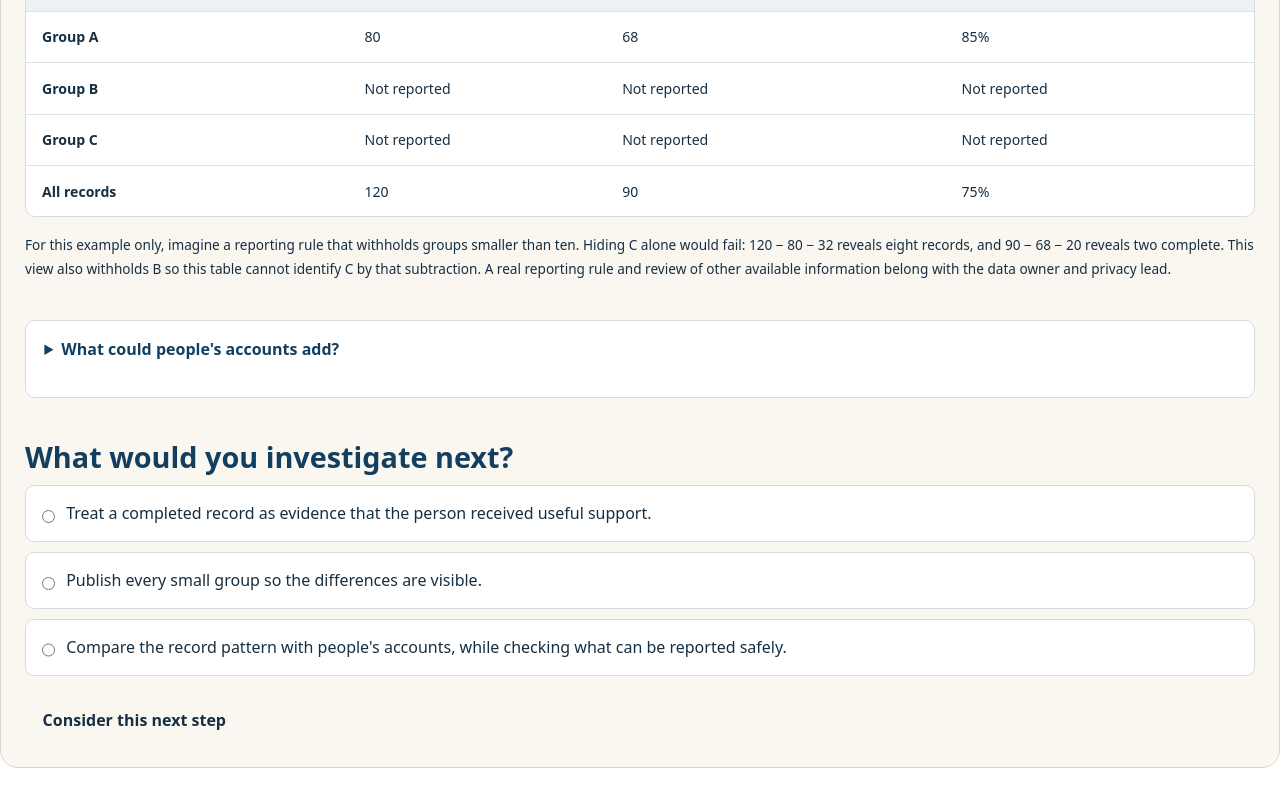
Scenario: DSD resource-specific companions › lets a learner reconsider the investigation without keeping an old response or recording activity
(page scrolled)
Expected: the button "Consider this next step" is disabled, [25,697,244,743]
What coordinates should you click on to do the following:
click the radio button labelled "Treat a completed record"
I would click on:
 (48, 516)
Its box is [42,506,55,527].
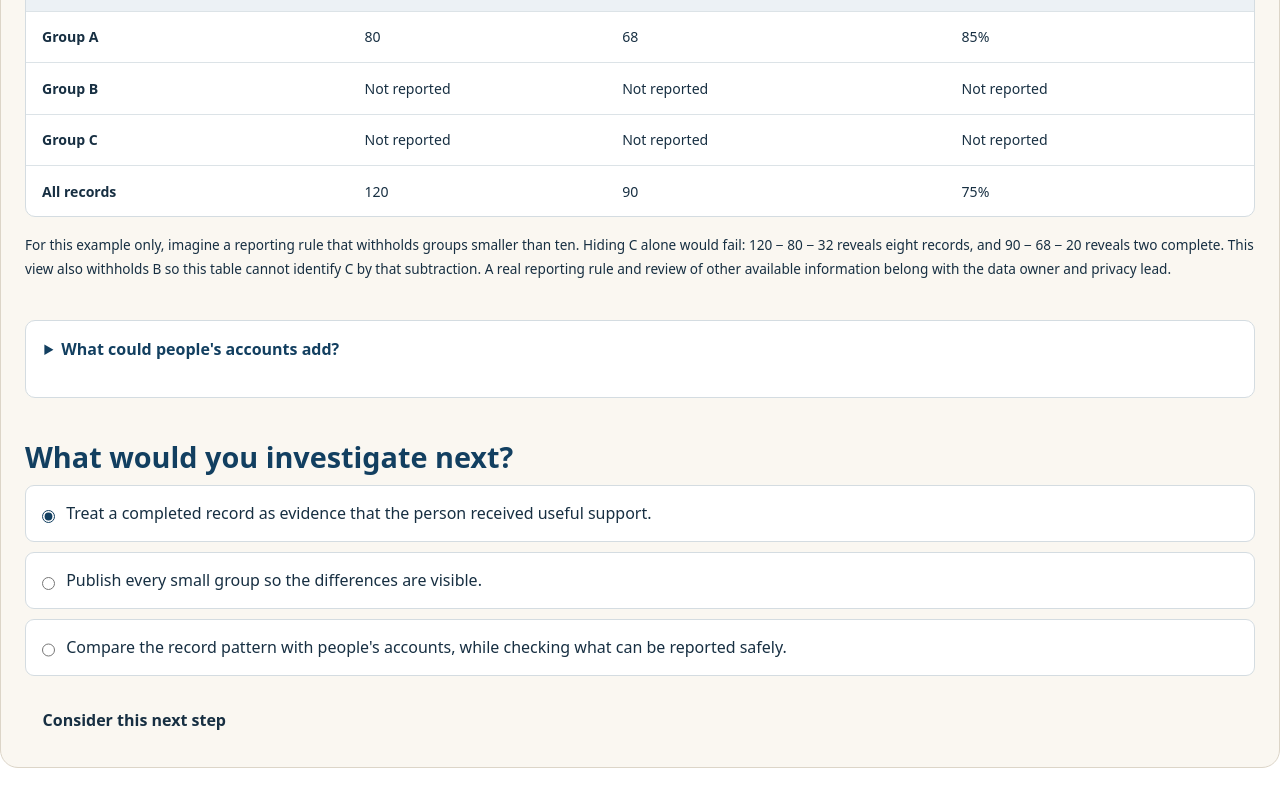
What coordinates should you click on to do the following:
click the button "Consider this next step"
I would click on:
 (134, 720)
Its box is [25,697,244,743].
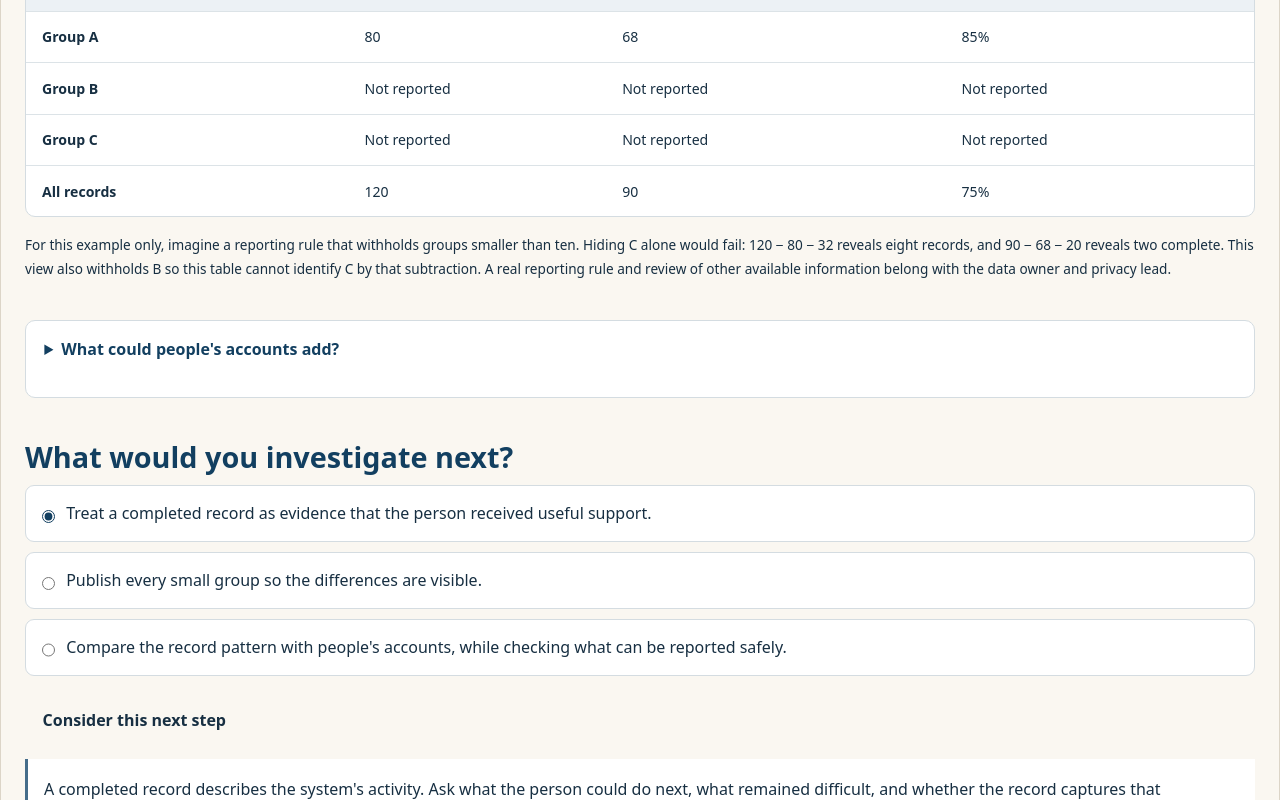
What coordinates should you click on to do the following:
click the radio button labelled "Compare the record pattern"
I would click on:
 (48, 650)
Its box is [42,640,55,660].
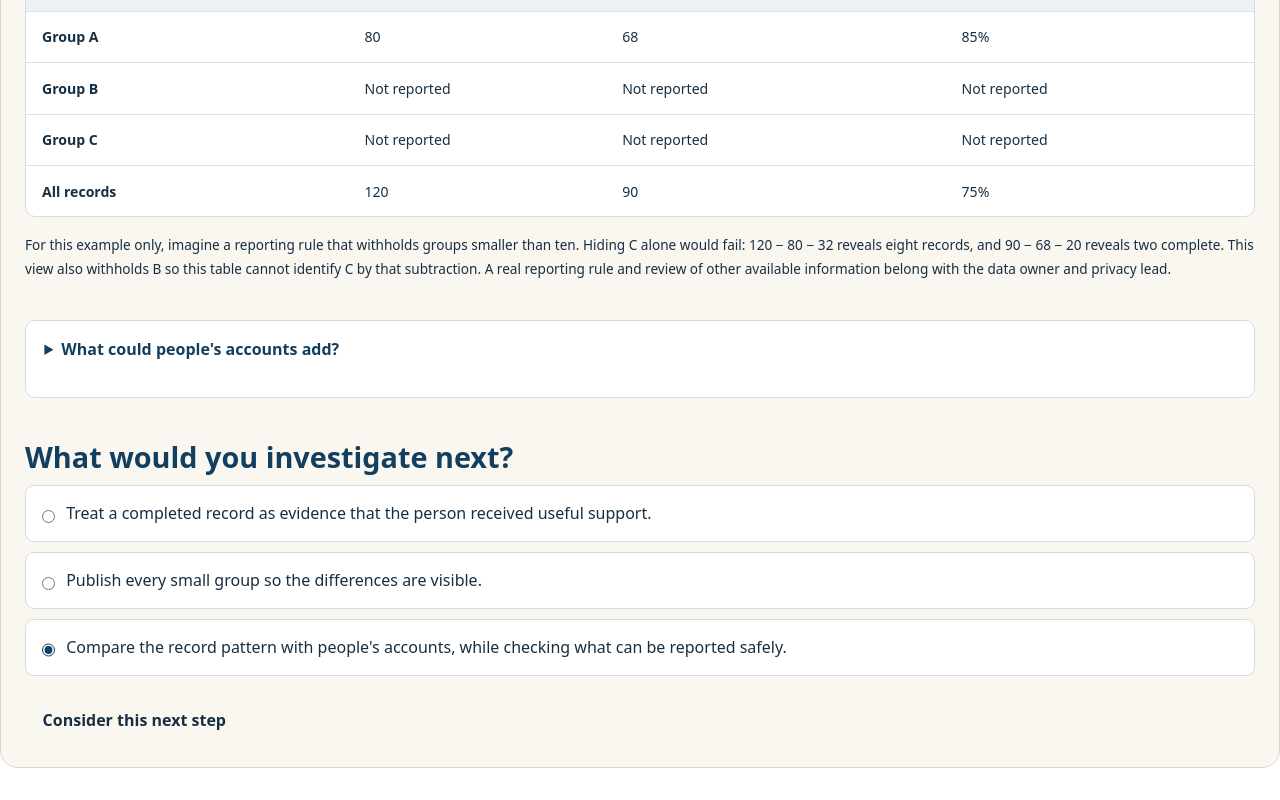
What coordinates should you click on to do the following:
click the button "Consider this next step"
I would click on:
 (134, 720)
Its box is [25,697,244,743].
(page scrolled)
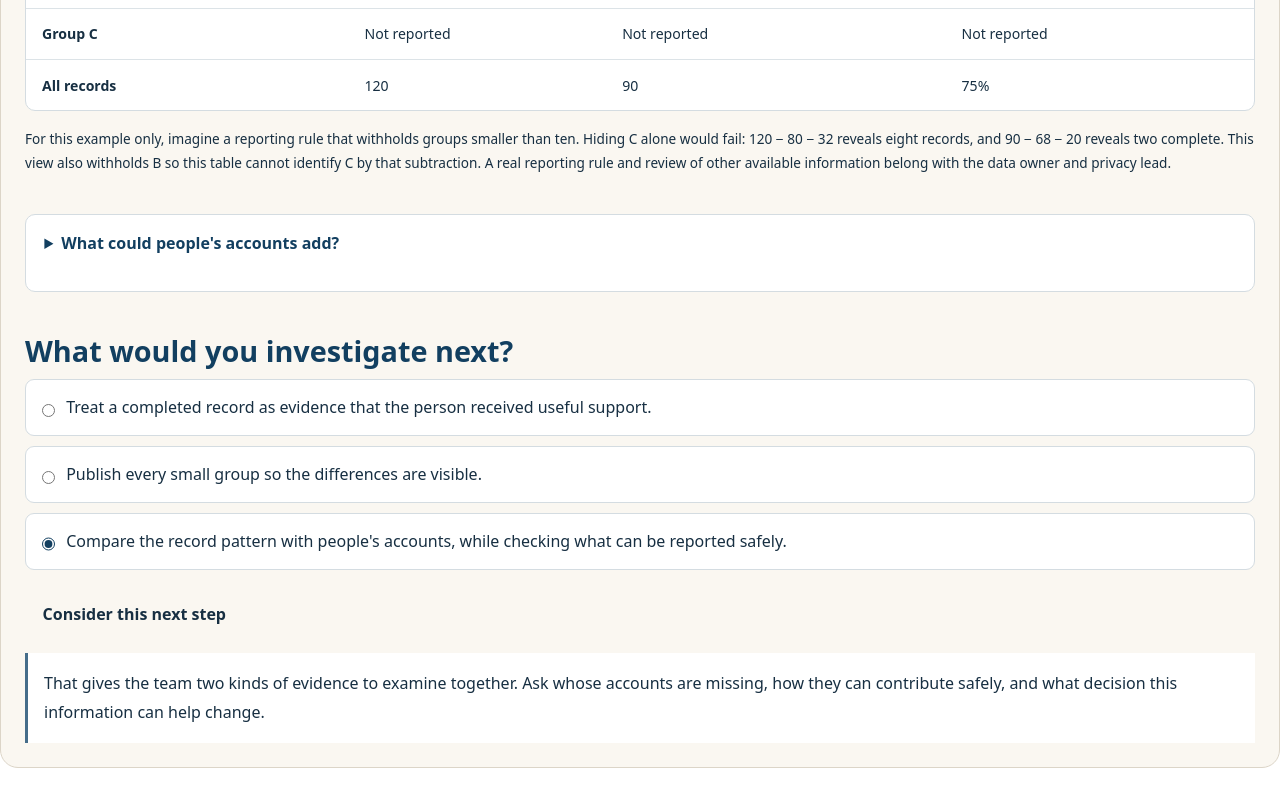
Now the text "two kinds of evidence to examine together" is shown, box [44,672,1177,723]
